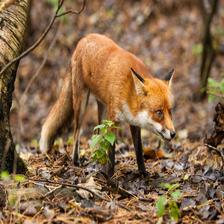fox: (36, 25, 187, 196)
